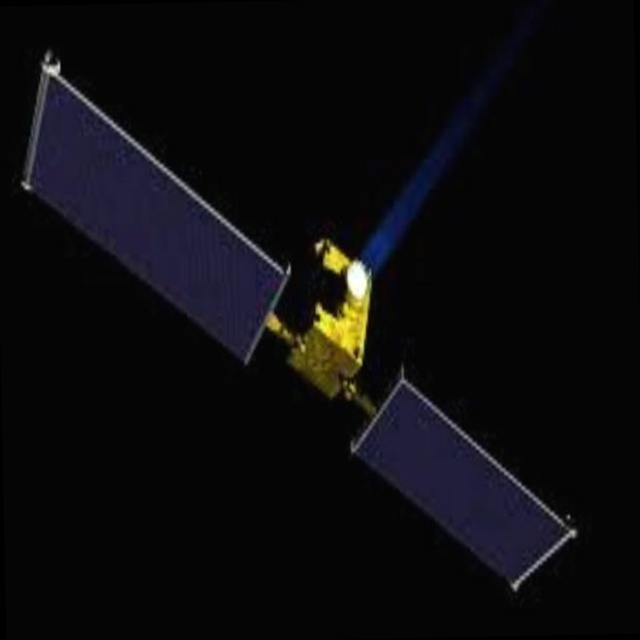satellite: (22, 45, 575, 603)
